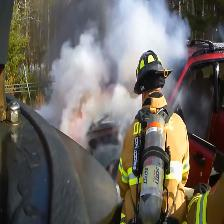nofire: (127, 60, 224, 224)
smoke: (22, 0, 201, 135)
